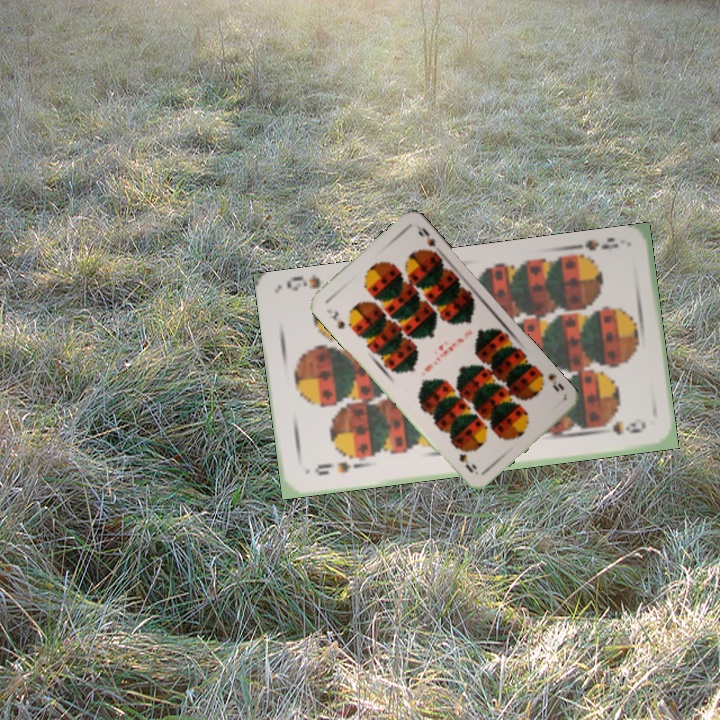S9: (566, 233, 621, 265), (310, 454, 362, 478), (534, 366, 567, 394), (322, 305, 347, 332)
